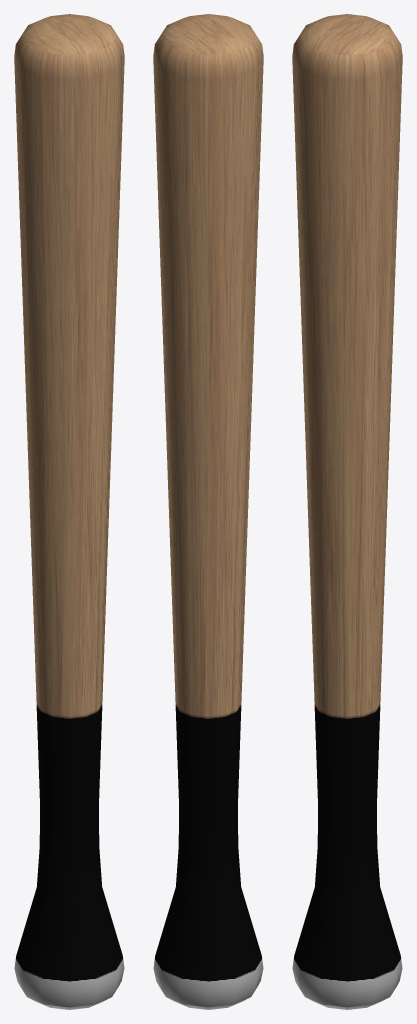
Rendered from bat.fbx.
The picture shows the model from 3 angles, left to right: view 1: azimuth 30°, elevation 25°; view 2: azimuth 210°, elevation 25°; view 3: azimuth 330°, elevation 25°; orthographic projection.
Visible parts, largest first — view 1: Cylinder001; view 2: Cylinder001; view 3: Cylinder001.
Part boxes in pixels (bbox=[...]): Cylinder001: bbox=[14, 14, 124, 1009]; Cylinder001: bbox=[153, 14, 263, 1009]; Cylinder001: bbox=[292, 14, 402, 1009].
Bounding box in the file's own units: 5.38 × 51.93 × 5.38.
1 material, 1 textured.
